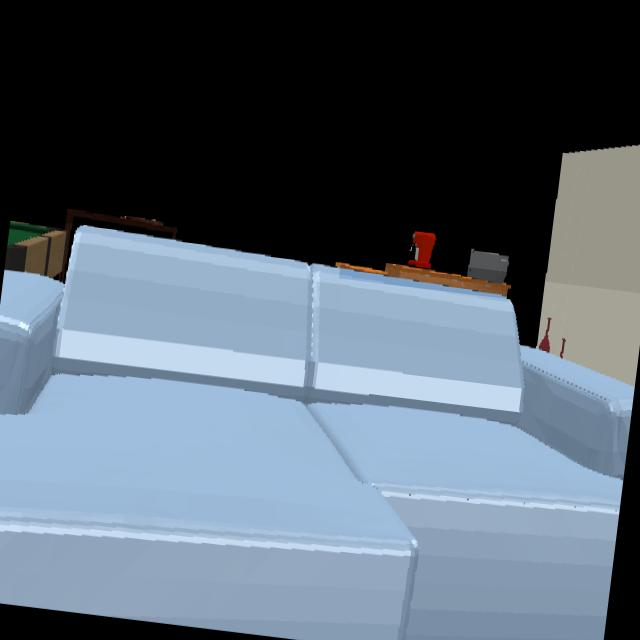sofa: (0, 225, 632, 640)
table: (339, 260, 510, 297)
